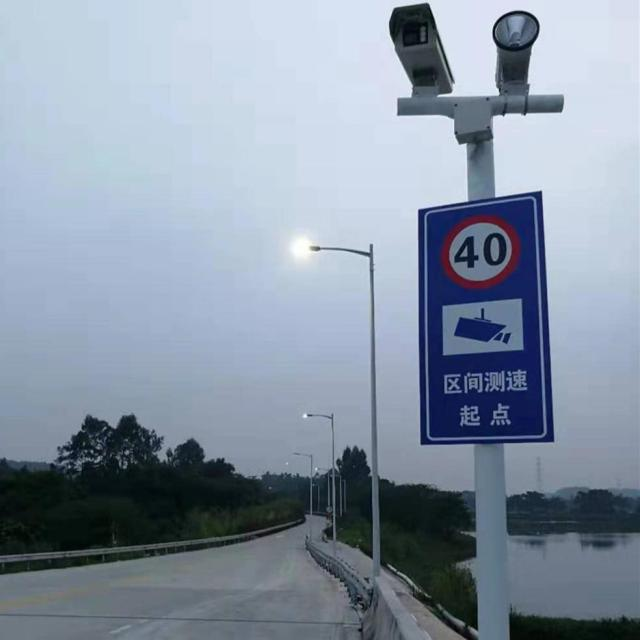speed limit 40: (440, 217, 518, 290)
